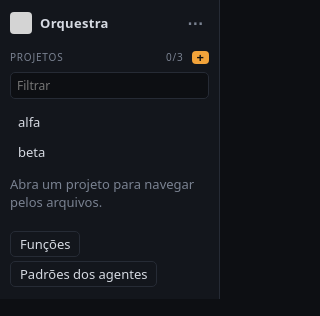
Test: Sidebar › lista os recentes e filtra por nome ou caminho
Expected: the button with test id "recent-alfa" is shown, [10,107,209,137]
Type "BET" into the field with test id "recent-filter".
click(110, 86); type("BET")  # box [10,72,209,99]
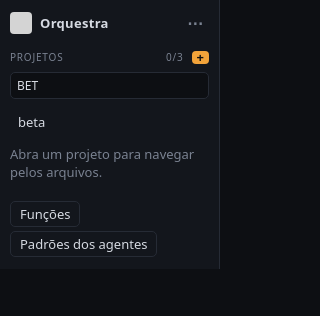
Expected: the button with test id "recent-beta" is shown, [10,107,209,137]
Now the button with test id "recent-alfa" is gone
